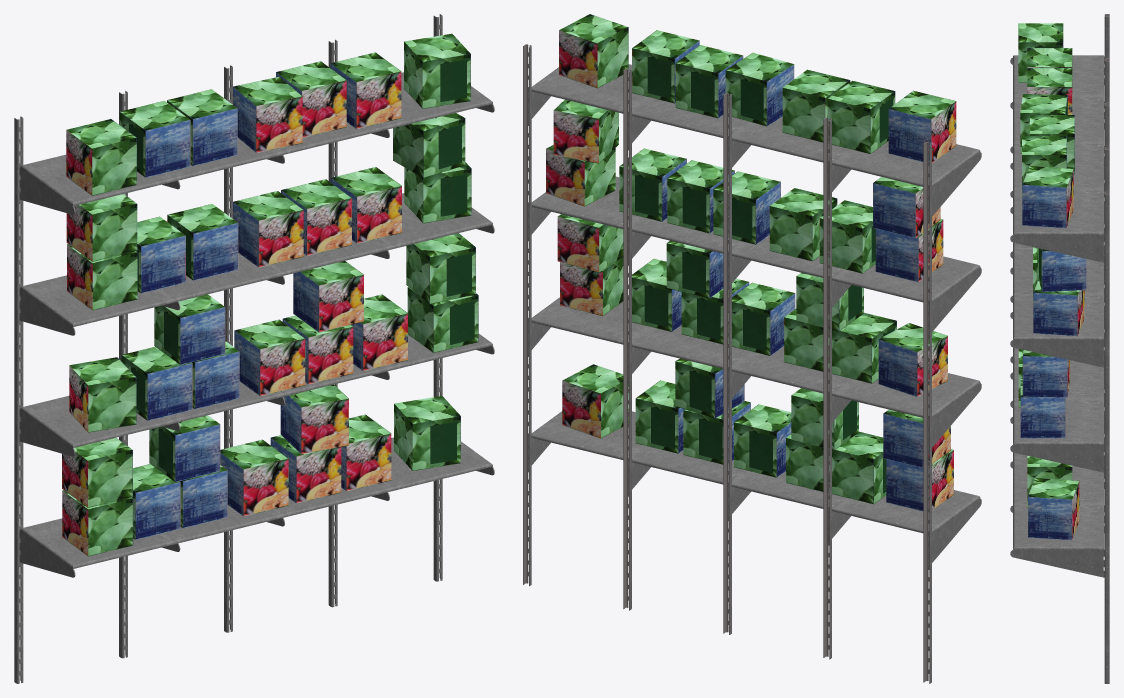
Rendered from wallshelf.glb.
3 views of the same model, side by side, from view 1: azimuth 30°, elevation 25°; view 2: azimuth 150°, elevation 25°; view 3: azimuth 270°, elevation 25° (orthographic). The views are drawn at different scales.
Visible parts, largest first — view 1: Material2 (×4); view 2: Material2 (×4); view 3: Material2 (×2).
Part boxes in pixels (bbox=[...]): Material2 (×4): bbox=[14, 14, 494, 683]; Material2 (×4): bbox=[523, 14, 981, 683]; Material2 (×2): bbox=[1010, 16, 1109, 683].
Bounding box in the file's own units: 1.58 × 2 × 0.367.
Materials: 5 (2 with a texture image).
